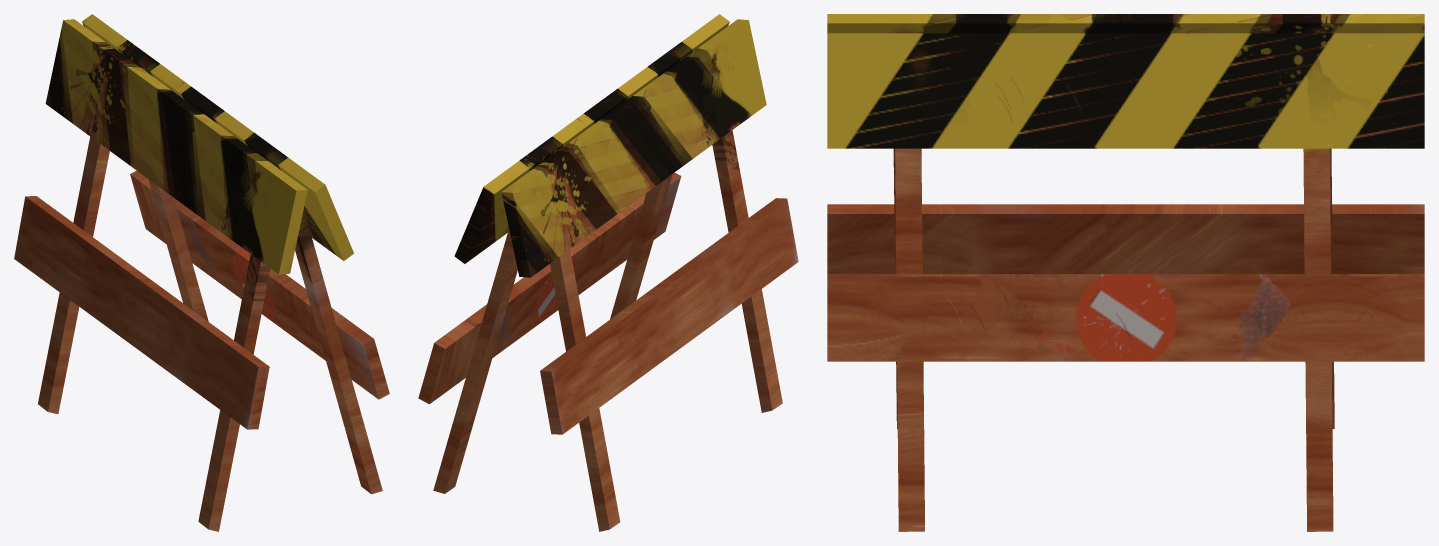
Rendered from señal.fbx.
3 views of the same model, side by side, from view 1: azimuth 30°, elevation 25°; view 2: azimuth 150°, elevation 25°; view 3: azimuth 270°, elevation 25° (orthographic). The views are drawn at different scales.
Visible parts, largest first — view 1: Cube.002; view 2: Cube.002; view 3: Cube.002.
Boxes of the visible parts, x1,y1,x2,y2 form: Cube.002: [14, 14, 389, 531]; Cube.002: [418, 14, 798, 531]; Cube.002: [827, 14, 1424, 531].
Size of the model in its own units: 68.29 by 130 by 158.
1 material, 1 textured.
